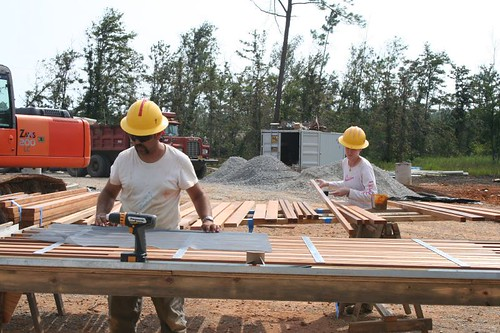person hardhat: (100, 98, 217, 240), (324, 122, 383, 215)
